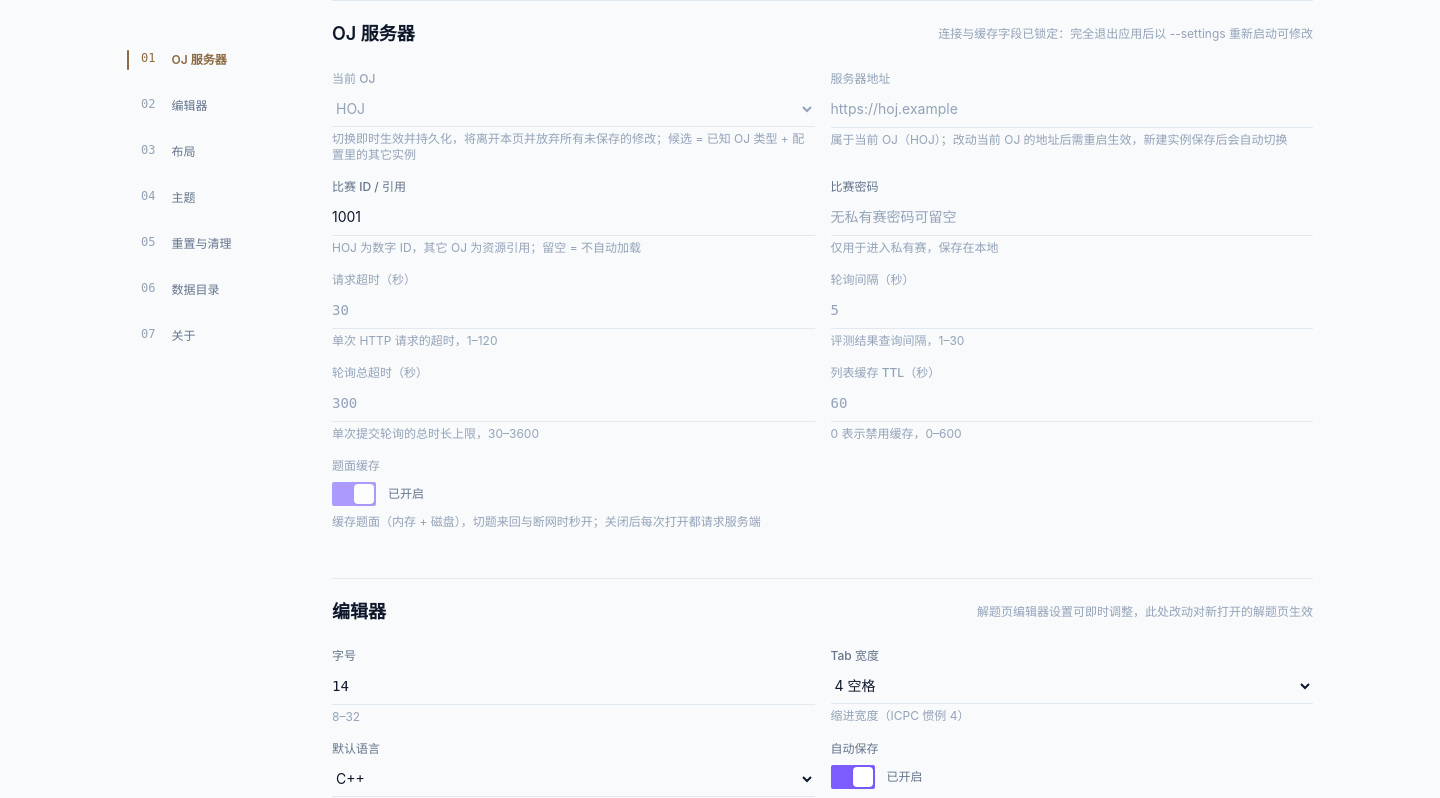
Test: SettingsView 行为表征（结构拆分前） › 真实编辑后保存完整配置：不得写 active，成功后推进 baseline
Check: the label "比赛 ID / 引用 HOJ 为数字 ID，其它 OJ 为资源引用；留空 = 不自动加载" is shown, box [332,179,814,256]
Replace the text in the field labelled "比赛 ID / 引用 HOJ 为数字 ID，其它 OJ 为资源引用；留空 = 不自动加载" with " 2002 ": point(573, 217) [332,199,814,236]
(page scrolled)
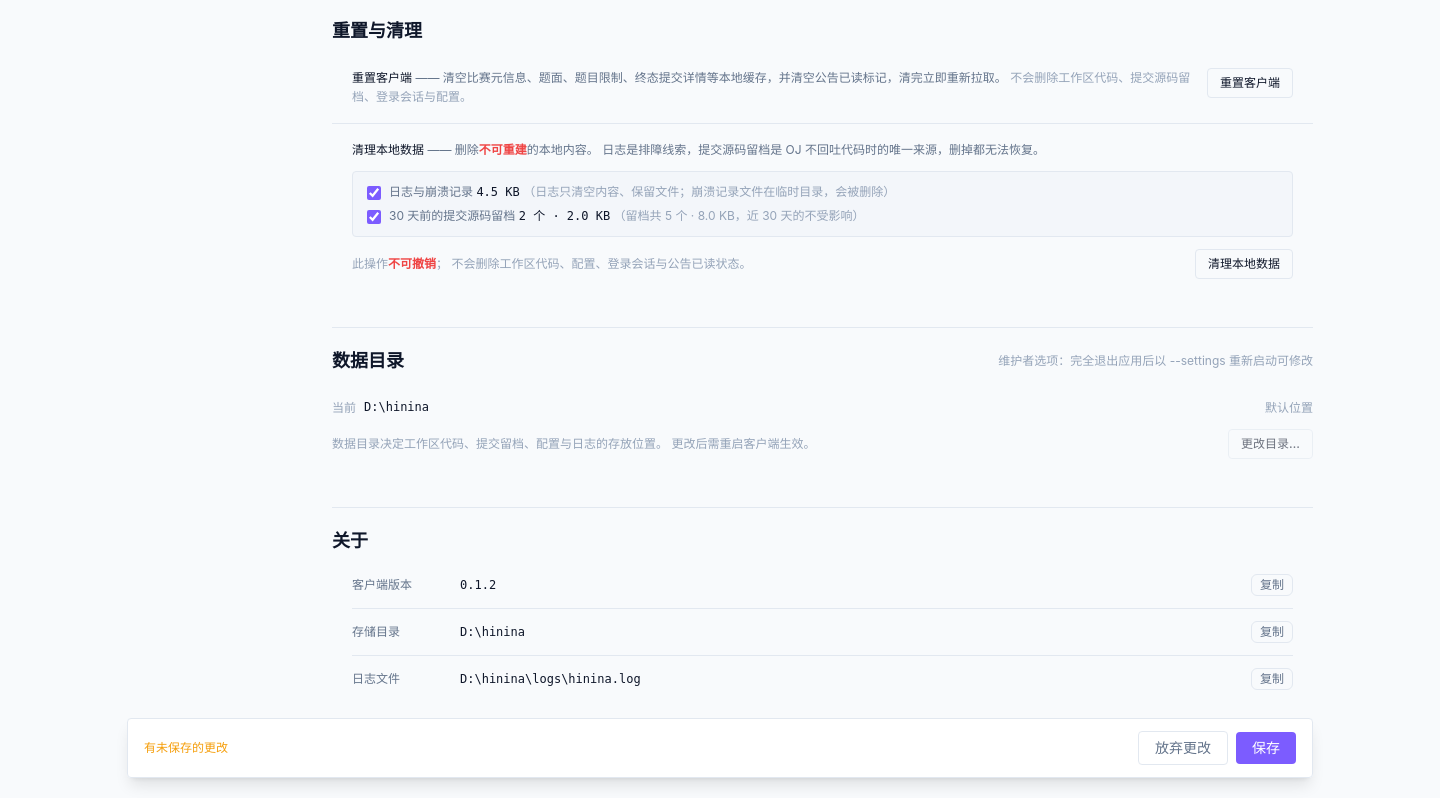
Click the button "保存": point(1266, 748) [1236,732,1296,764]
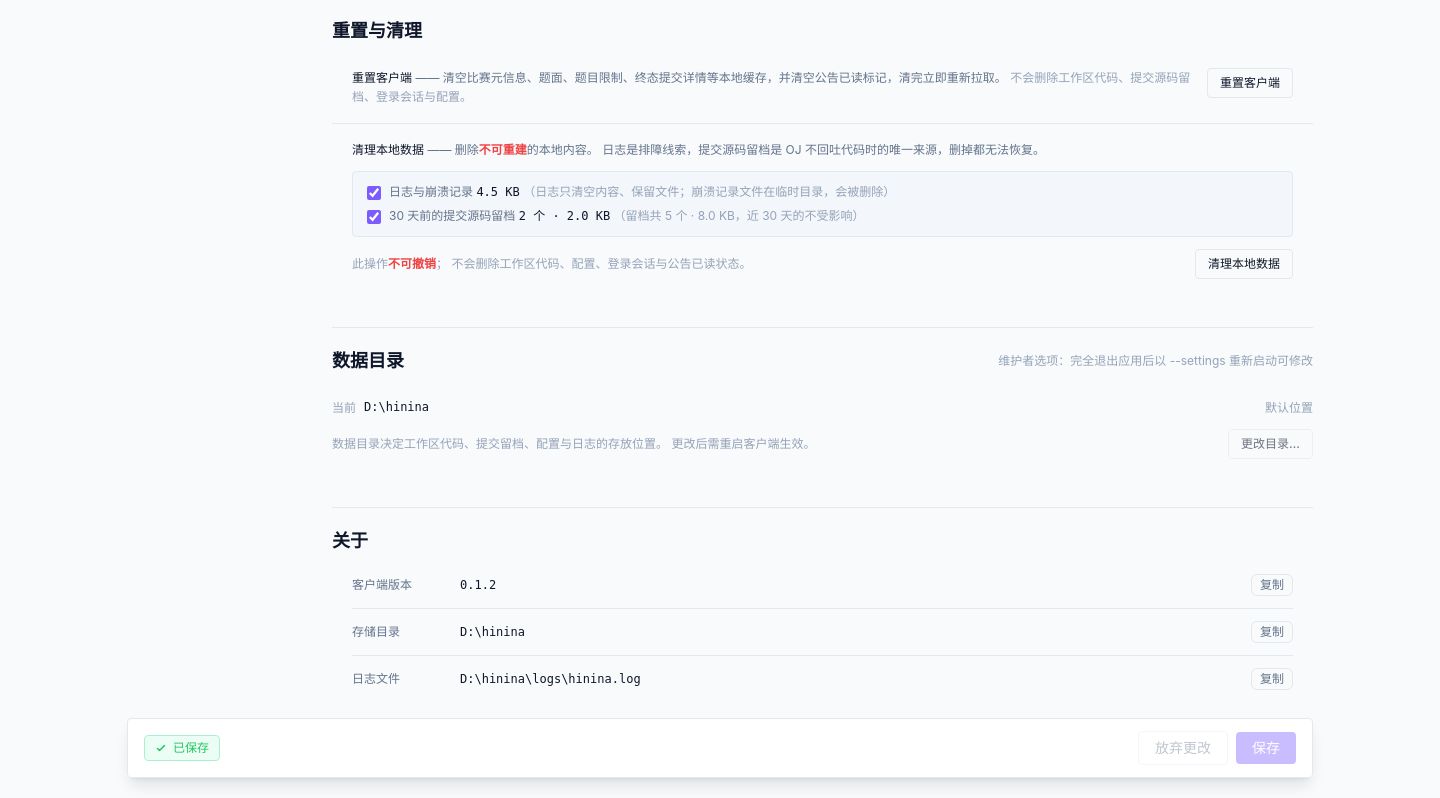
Check: the text "已保存" is shown, box [144,735,220,761]
Check: the button "保存" is disabled, box [1236,732,1296,764]
